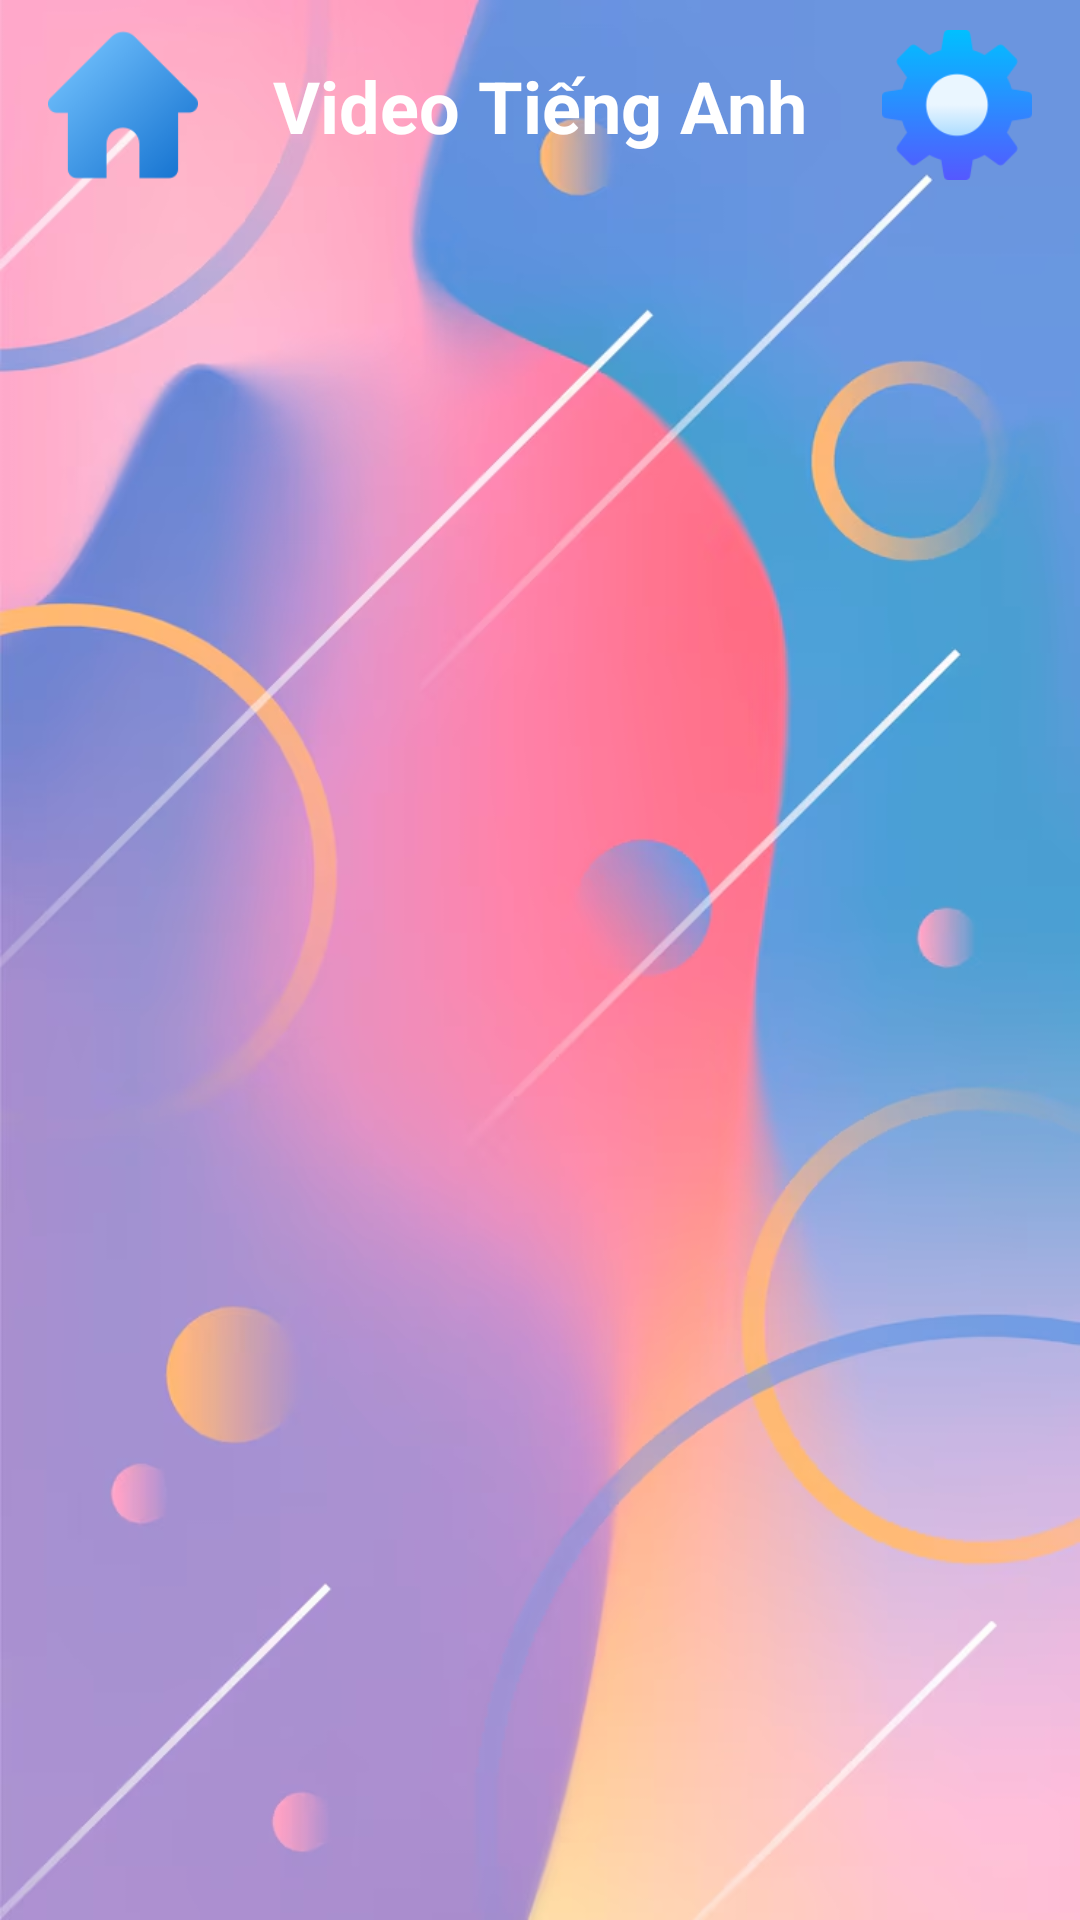

Icon bounding boxes for this 1080*1920 phone screenshot, format (x1, y1, x2, y2):
Cài đặt: (882, 30, 1032, 180)
